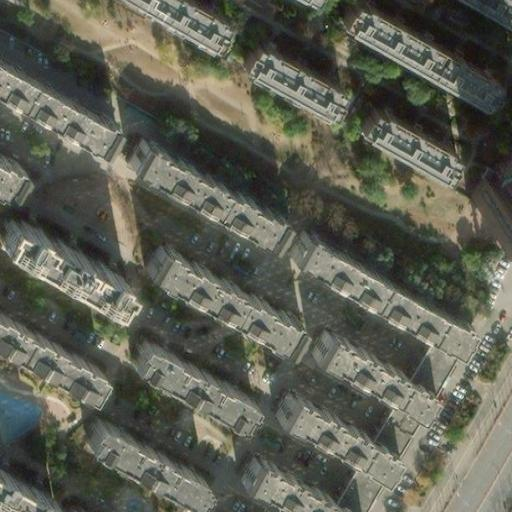building: (334, 334, 453, 512), (286, 228, 463, 345), (340, 5, 498, 113), (126, 135, 279, 239), (143, 242, 294, 346), (85, 420, 211, 508), (126, 336, 251, 423), (1, 200, 126, 285), (0, 53, 109, 144), (309, 327, 424, 407), (276, 392, 388, 471), (0, 304, 101, 387), (238, 47, 343, 125), (359, 113, 459, 186), (237, 454, 351, 512), (465, 180, 512, 230), (0, 474, 54, 512)
